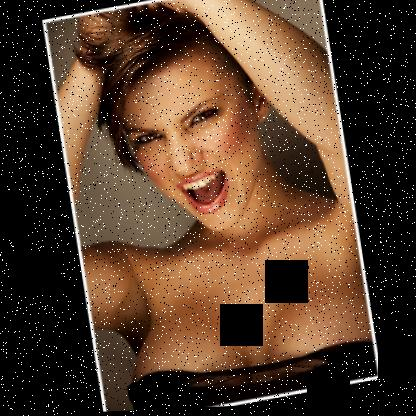Female: (112, 31, 288, 249)
